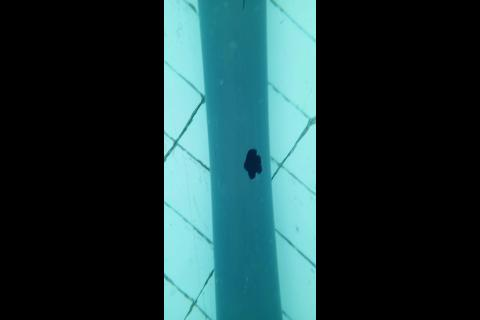kebocoran: (242, 146, 263, 181)
